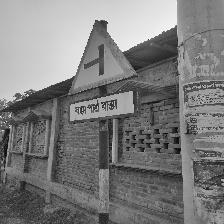Side-road-left: (68, 19, 140, 123)
